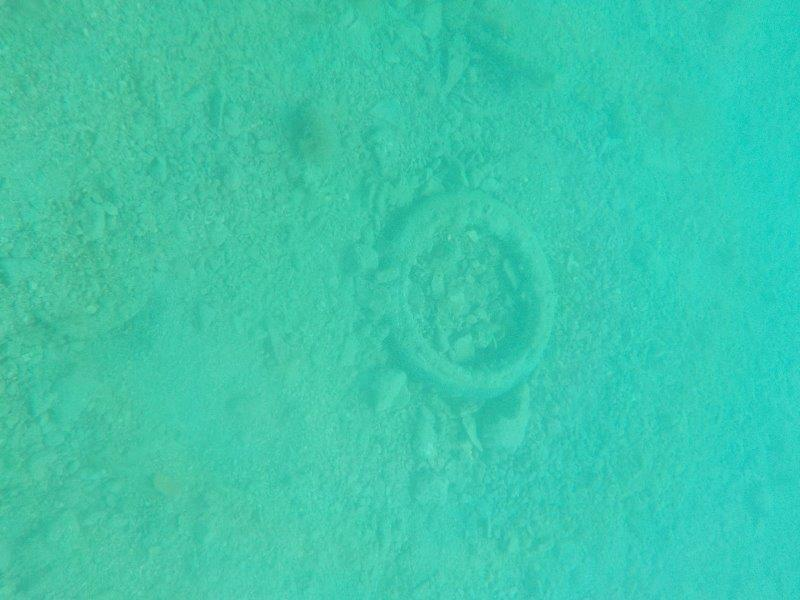tire: (366, 180, 565, 399)
